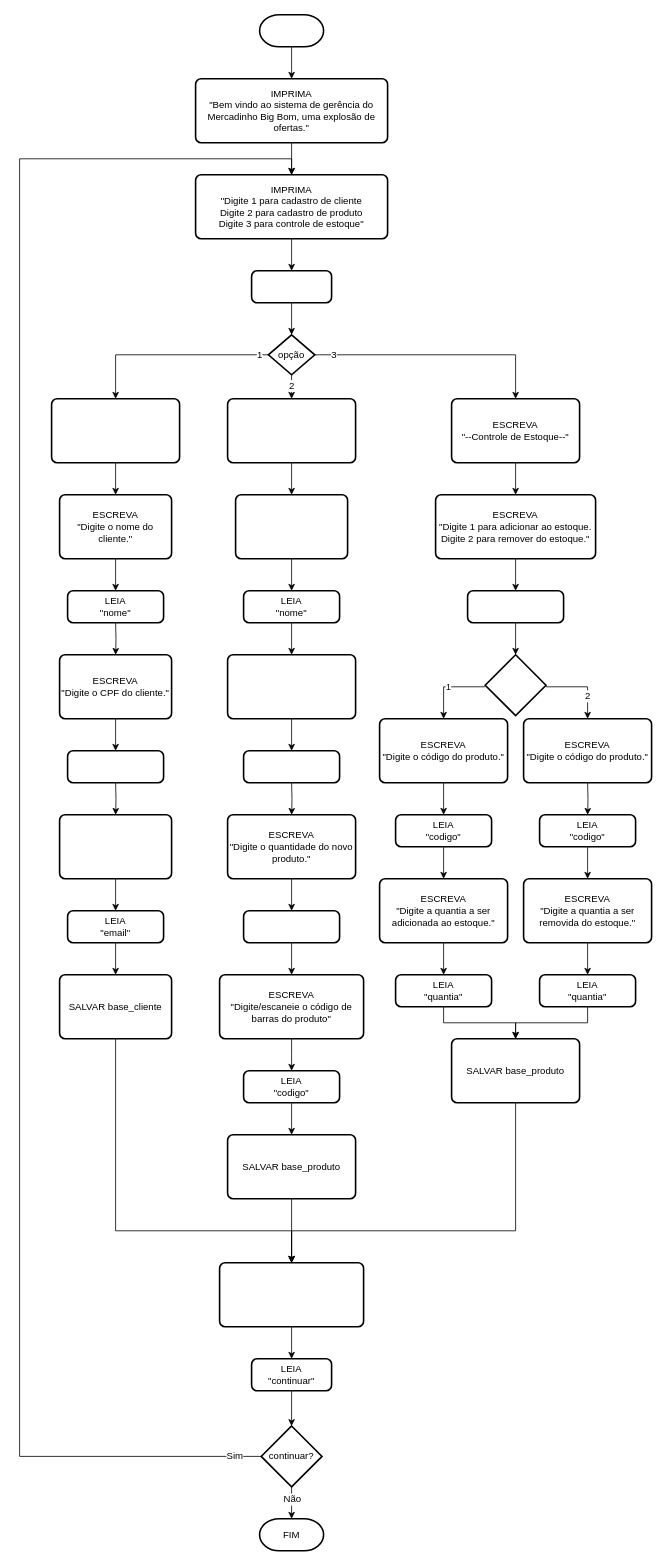
Some shapes in this 666 by 1565 pixel diagram are drawn without their labels. The centre of each missing label's shape, as x and y in pixels:
ESCREVA "--Cadastro de Clientes--": (x=115, y=430)
ESCREVA "--Cadastro de Produtos--": (x=291, y=430)
ESCREVA "Deseja fazer mais alguma operação? Digite sim ou não.": (x=291, y=1294)
ESCREVA "Digite o email do cliente.": (x=115, y=846)
ESCREVA "Digite o nome do produto.": (x=291, y=526)
ESCREVA "Digite o valor do produto.": (x=291, y=686)
INÍCIO: (x=291, y=30)
LEIA "cpf": (x=115, y=766)
LEIA "opcao": (x=515, y=606)
LEIA "opção": (x=291, y=286)
LEIA "quantidade": (x=291, y=926)
LEIA "valor": (x=291, y=766)
opcao?: (x=515, y=685)
